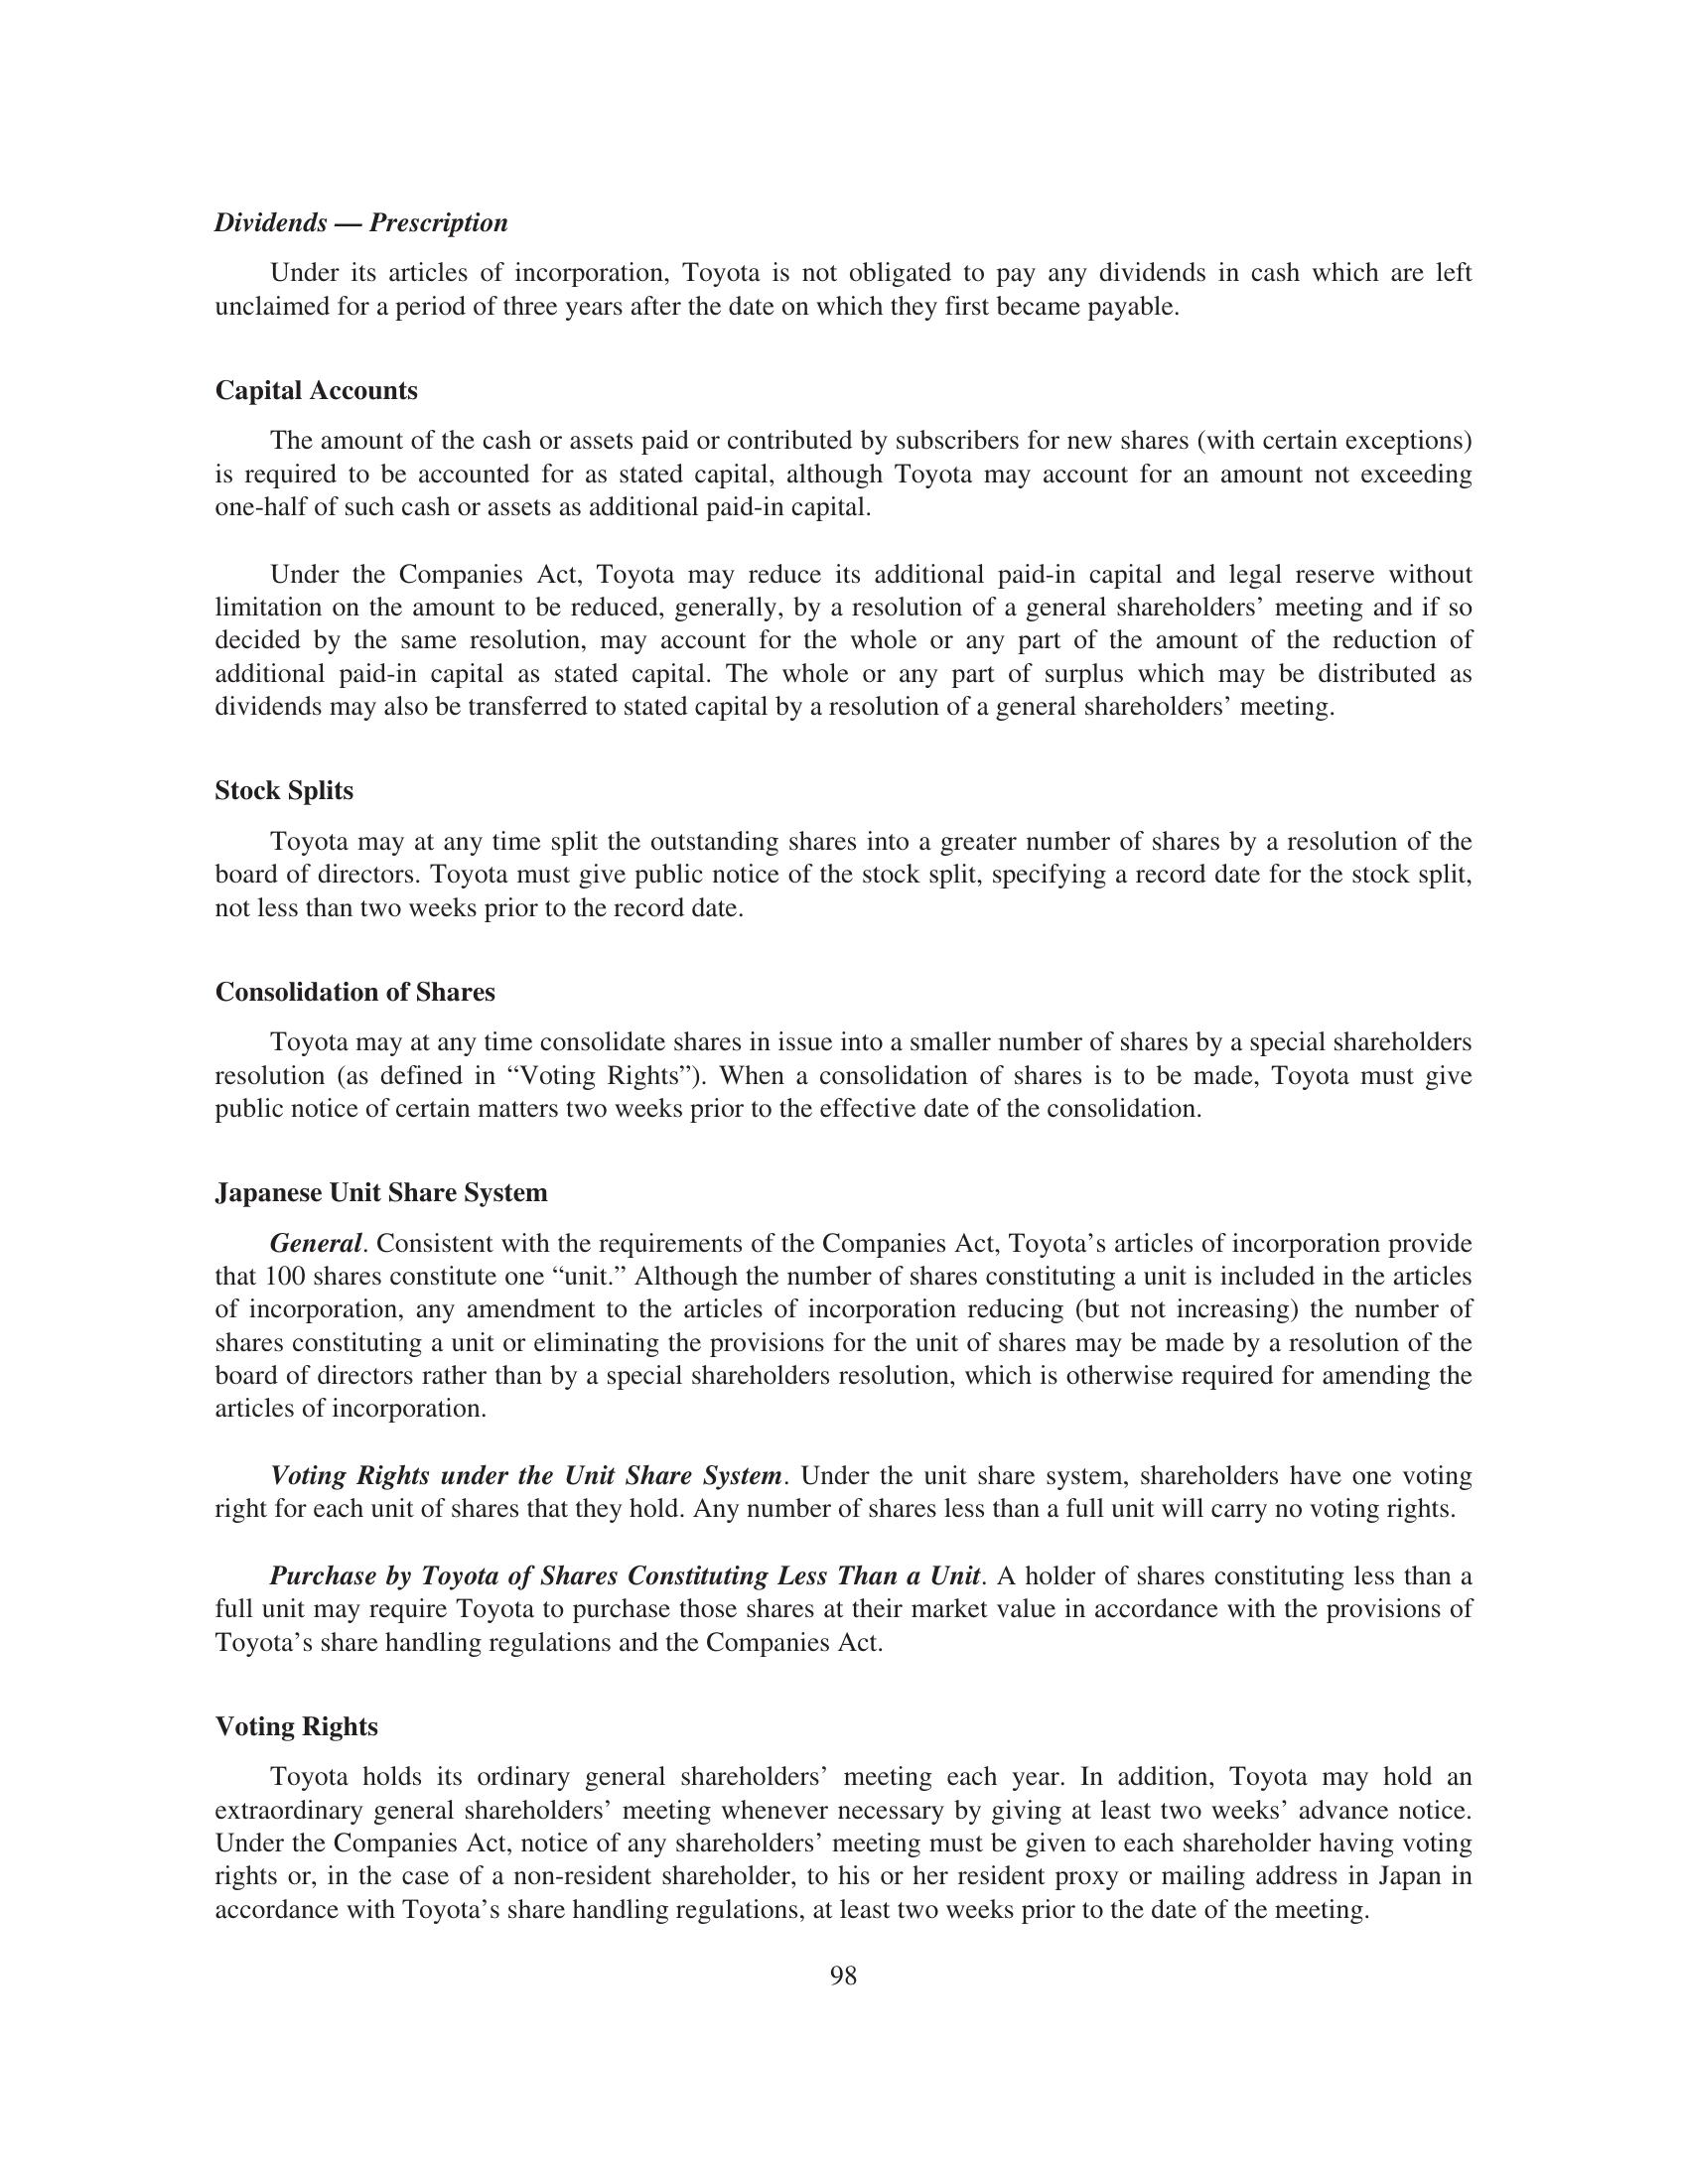Footer: (0, 1954, 1688, 2184)
Header: (0, 0, 1688, 191)
